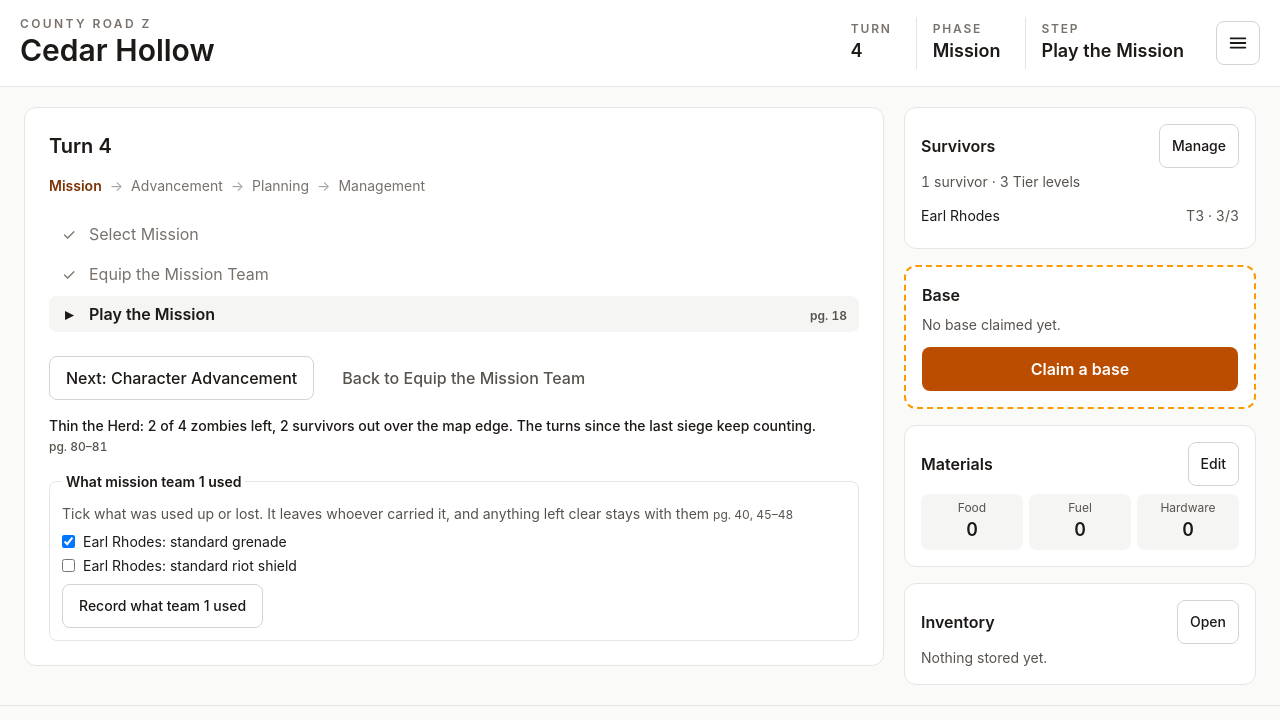
Test case: What a mission used (pp. 40, 45–48; Z5-5) › records that nothing was used, as an answer like any other
Click the checkbox labelled "Earl Rhodes: standard grenade" at (68, 542), box [62,535,75,548]
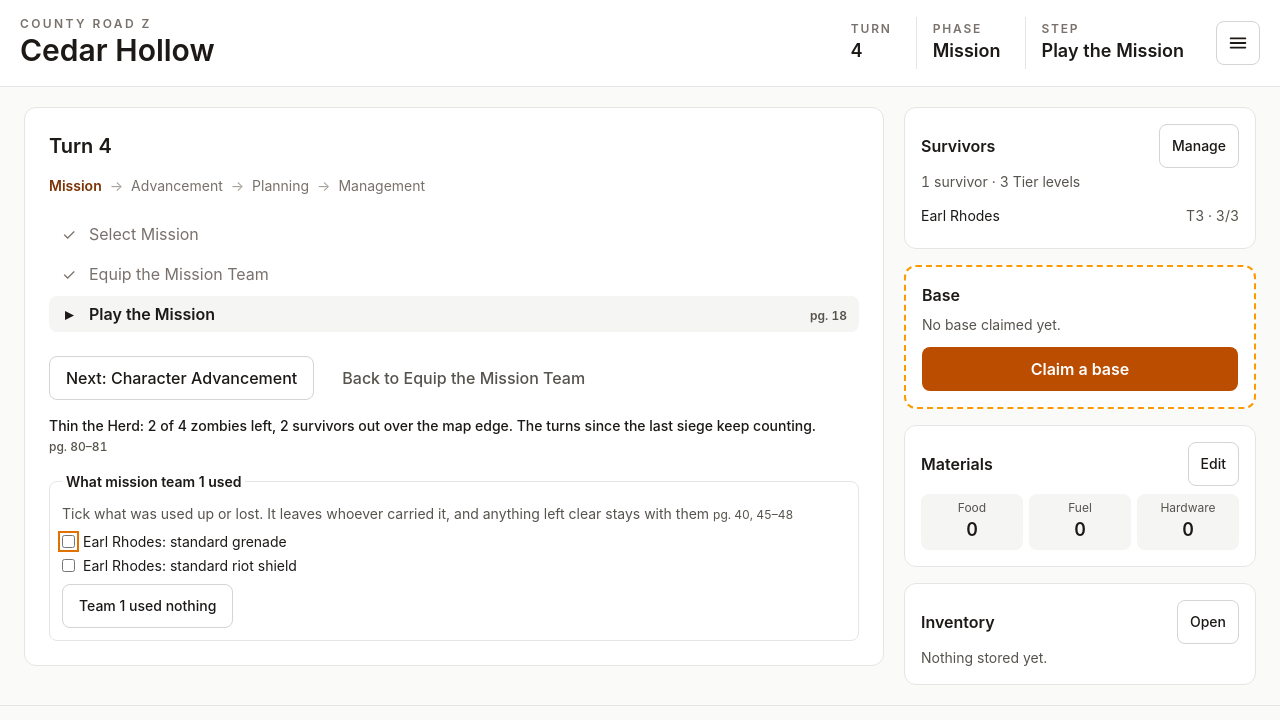
Click the button "Team 1 used nothing" at (148, 606), box [62,584,233,628]
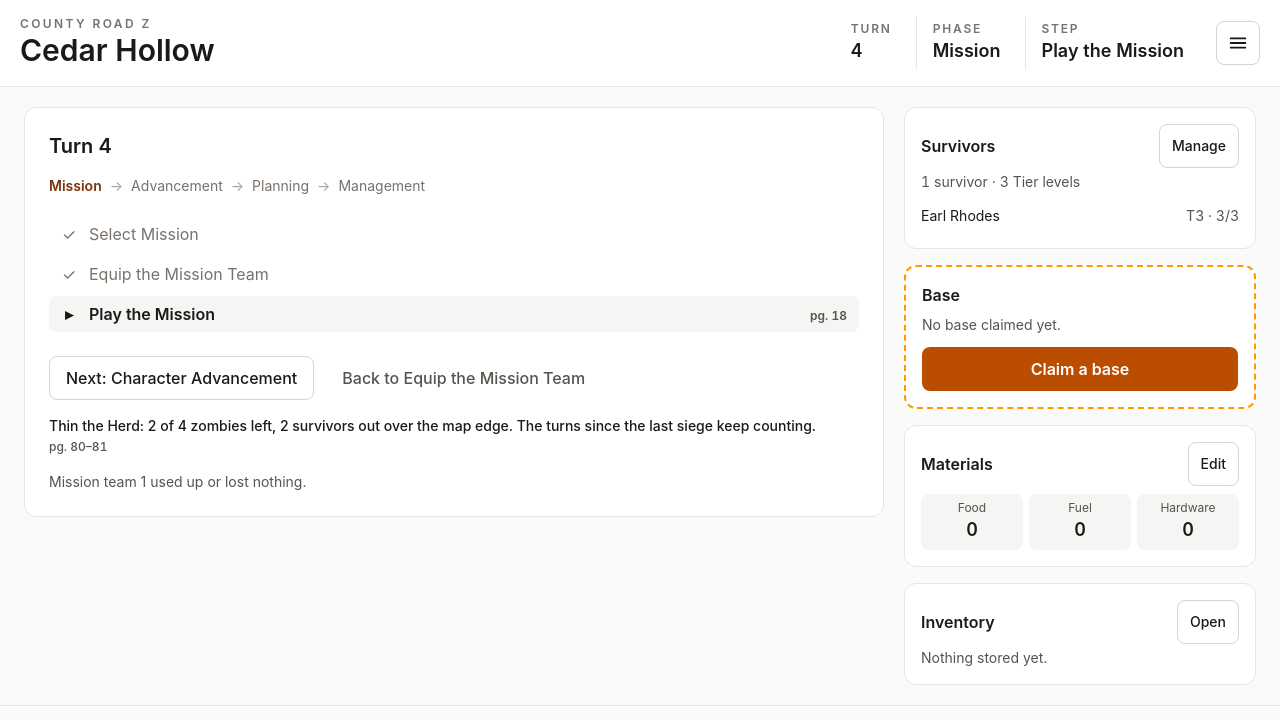
Check: the text "Mission team 1 used up or lost nothing." is shown, box [49,472,306,490]
Check: the text "What mission team 1 used" is gone
